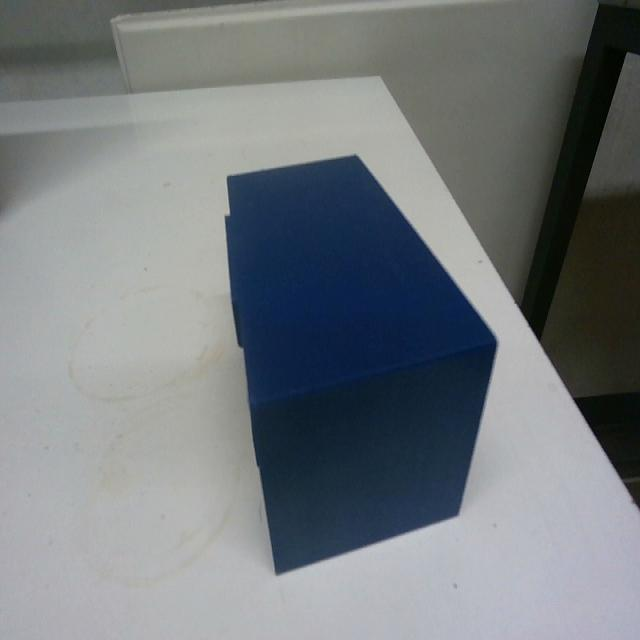Blue Cuboid: (221, 149, 499, 575)
